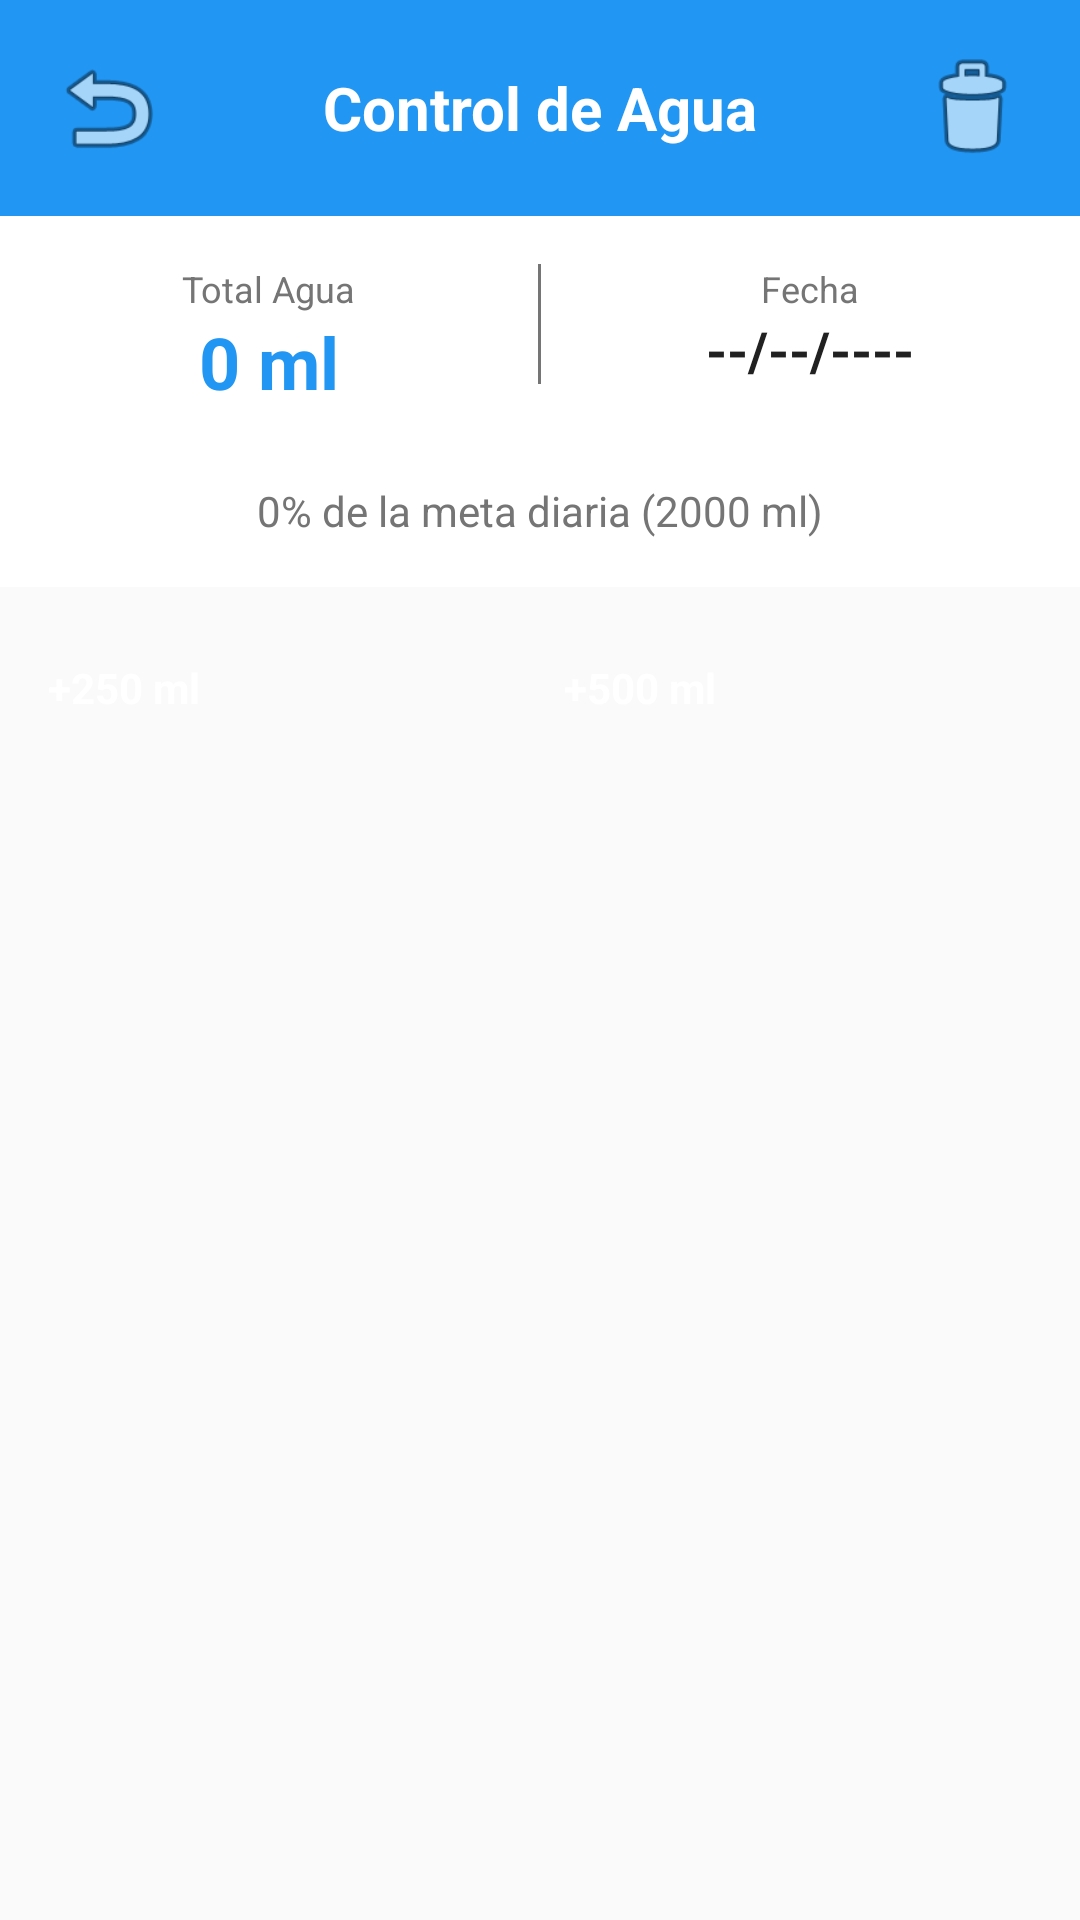

Icon click points for this 1080w x 1920h phone screenshot, format [x,y]:
Limpiar Registros: [973,106]
Volver: [109,109]
